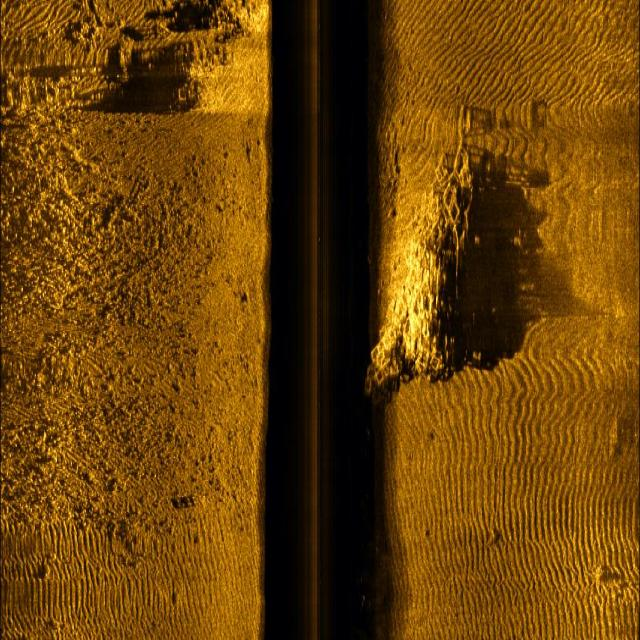artificial reef: (358, 108, 481, 395)
